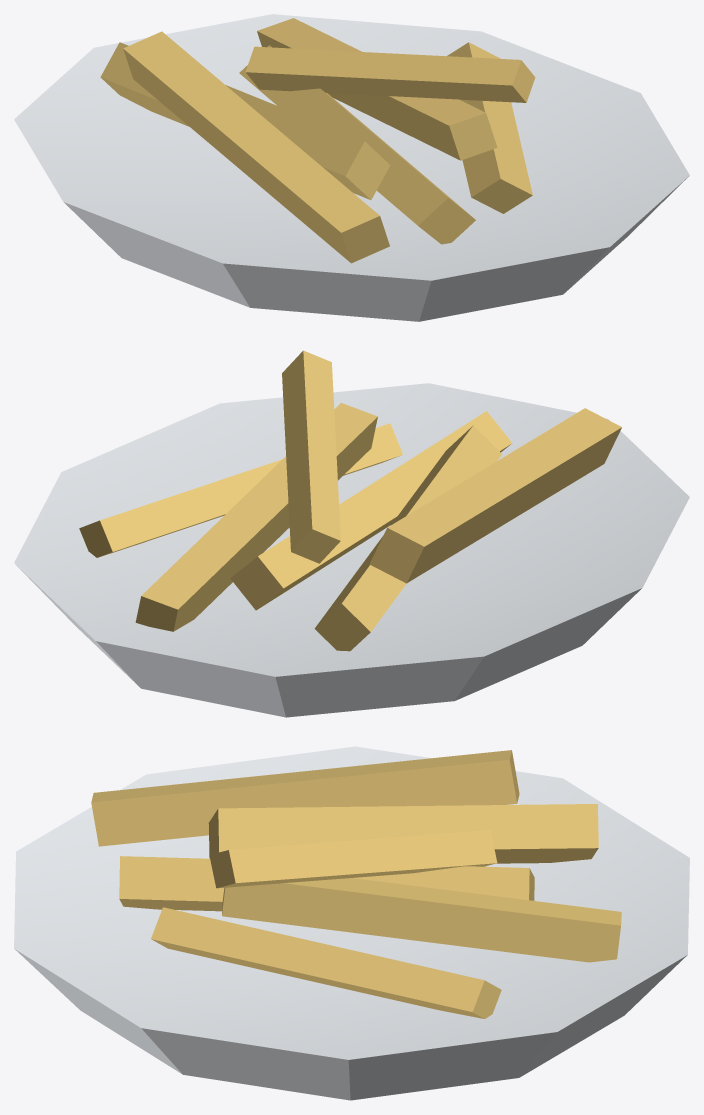
The model's file is chips2.fbx.
3 renders of one model, top to bottom at view 1: azimuth 30°, elevation 25°; view 2: azimuth 150°, elevation 25°; view 3: azimuth 270°, elevation 25°, orthographic.
Parts seen in each view (by area): view 1: chips; view 2: chips; view 3: chips.
Boxes of the visible parts, x1=… form: chips: x1=14, y1=14, x2=689, y2=321; chips: x1=14, y1=350, x2=689, y2=717; chips: x1=14, y1=746, x2=689, y2=1100.
Size of the model in its own units: 40.48 by 12.48 by 40.68.
1 material, 1 textured.
